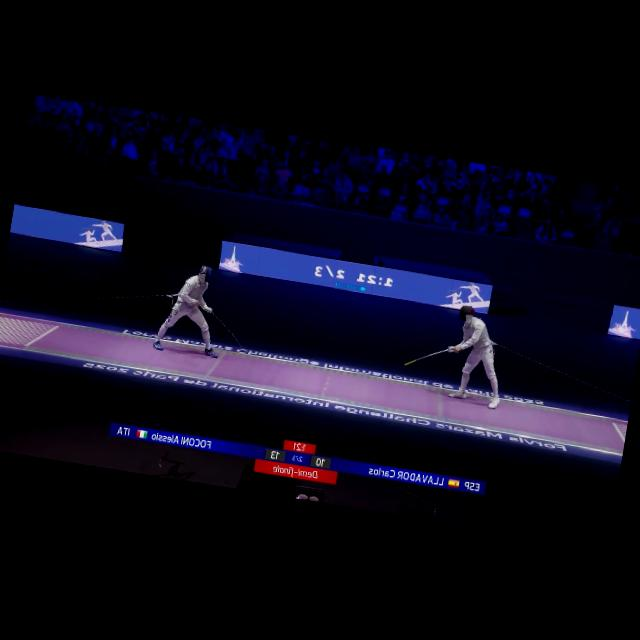blade: (202, 309, 255, 359), (398, 338, 458, 378)
